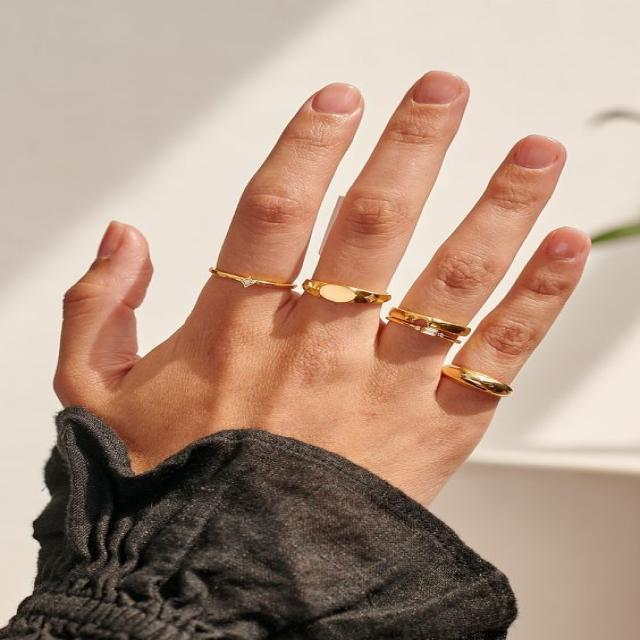Fingernail: (313, 83, 361, 115), (514, 135, 557, 170), (413, 73, 461, 104), (547, 229, 584, 261), (97, 221, 123, 258)
